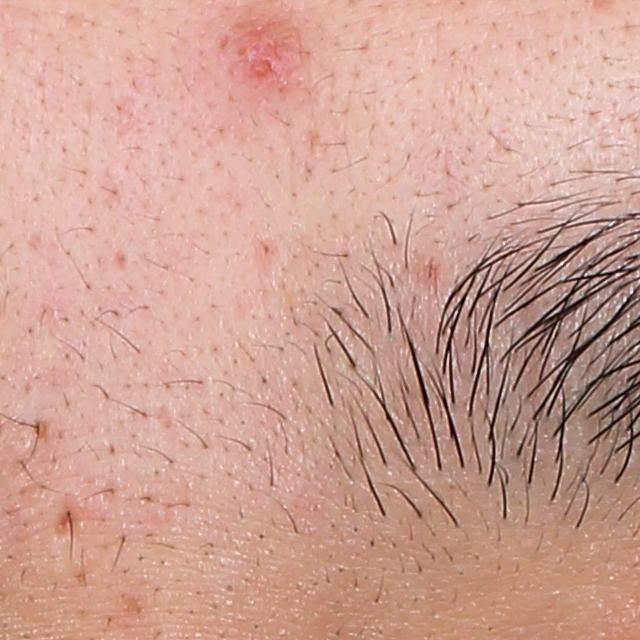papule: (230, 16, 305, 83)
